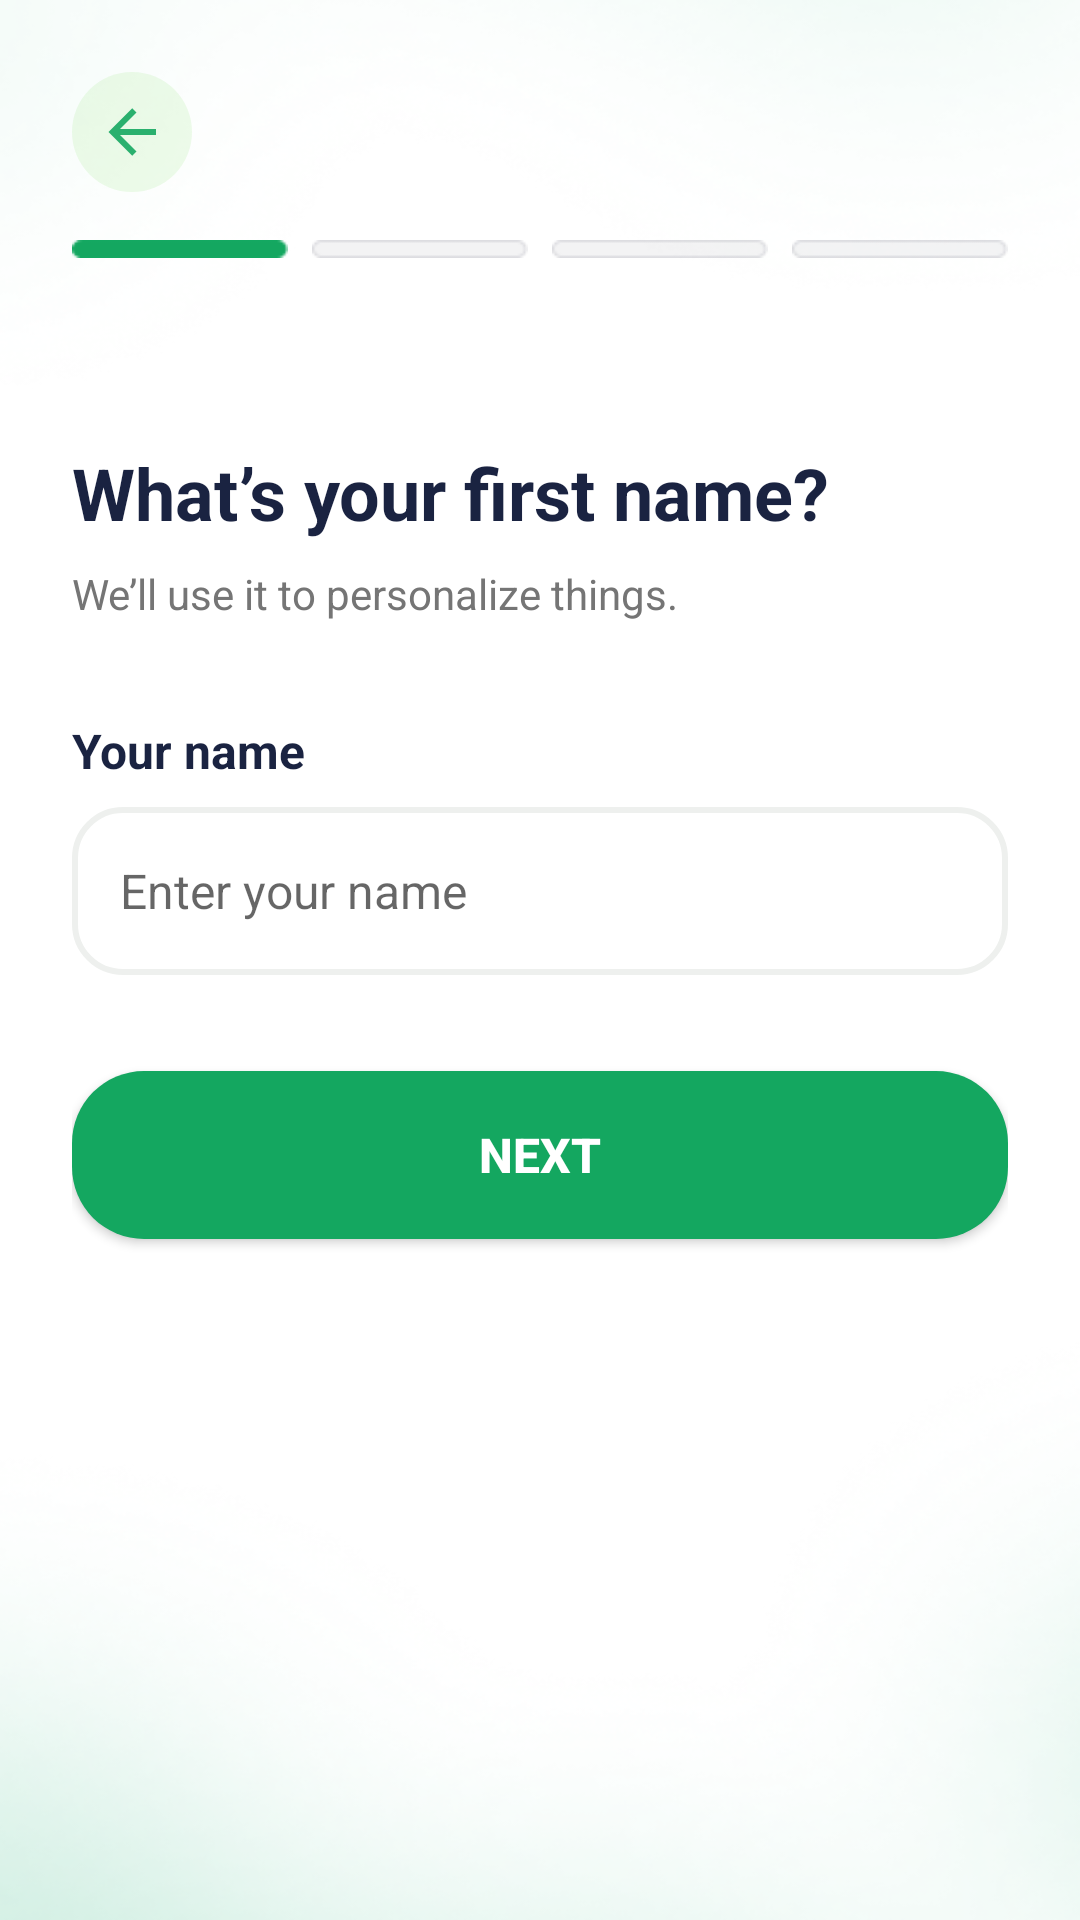

Point at icon controls on the screen. Image size 1080×1920, points as (x,y).
Back: (132,132)
